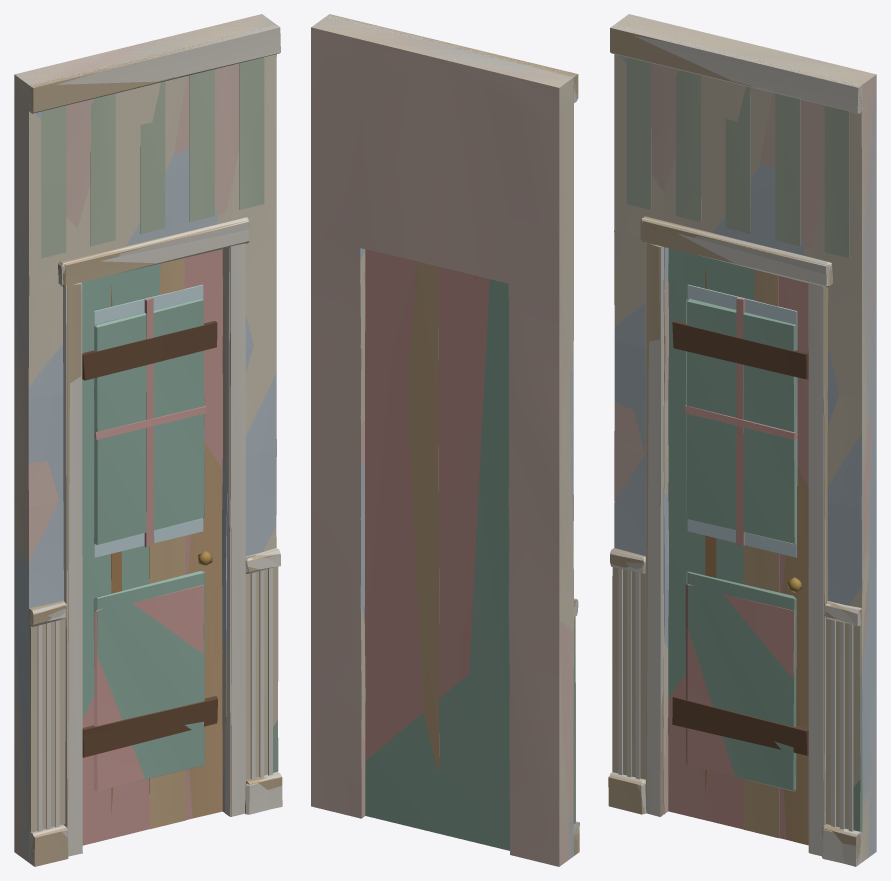
The model's file is iwall.door.glb.
3 renders of one model, left to right at view 1: azimuth 30°, elevation 25°; view 2: azimuth 150°, elevation 25°; view 3: azimuth 330°, elevation 25°, orthographic.
Visible parts, largest first — view 1: iwall.door.v0.mesh, iwall.door.v1.mesh, iwall.door.v2.mesh; view 2: iwall.door.v1.mesh, iwall.door.v2.mesh, iwall.door.v0.mesh; view 3: iwall.door.v0.mesh, iwall.door.v1.mesh, iwall.door.v2.mesh.
Boxes of the visible parts, bbox=[...] form: iwall.door.v0.mesh: bbox=[14, 14, 280, 866]; iwall.door.v1.mesh: bbox=[14, 14, 282, 866]; iwall.door.v2.mesh: bbox=[14, 14, 282, 864]; iwall.door.v1.mesh: bbox=[311, 14, 579, 866]; iwall.door.v2.mesh: bbox=[312, 16, 578, 858]; iwall.door.v0.mesh: bbox=[312, 14, 579, 861]; iwall.door.v0.mesh: bbox=[610, 14, 876, 863]; iwall.door.v1.mesh: bbox=[608, 16, 876, 865]; iwall.door.v2.mesh: bbox=[610, 15, 876, 866].
Bounding box in the file's own units: 0.9999 × 3 × 0.144.
